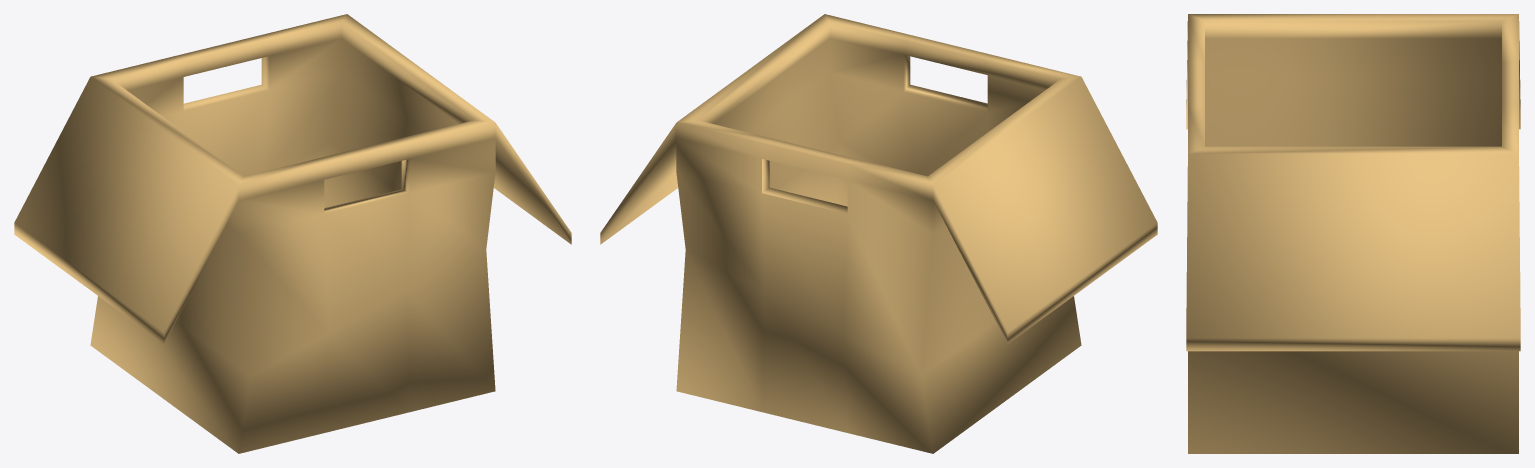
Rendered from props_open_cardboard_box.fbx.
3 renders of one model, left to right at view 1: azimuth 30°, elevation 25°; view 2: azimuth 150°, elevation 25°; view 3: azimuth 270°, elevation 25°, orthographic. The views are drawn at different scales.
Visible parts, largest first — view 1: Cube.002; view 2: Cube.002; view 3: Cube.002.
Boxes of the visible parts, x1=… form: Cube.002: x1=14, y1=14, x2=571, y2=453; Cube.002: x1=600, y1=14, x2=1157, y2=453; Cube.002: x1=1186, y1=14, x2=1520, y2=453.
Bounding box in the file's own units: 0.9153 × 0.583 × 0.577.
